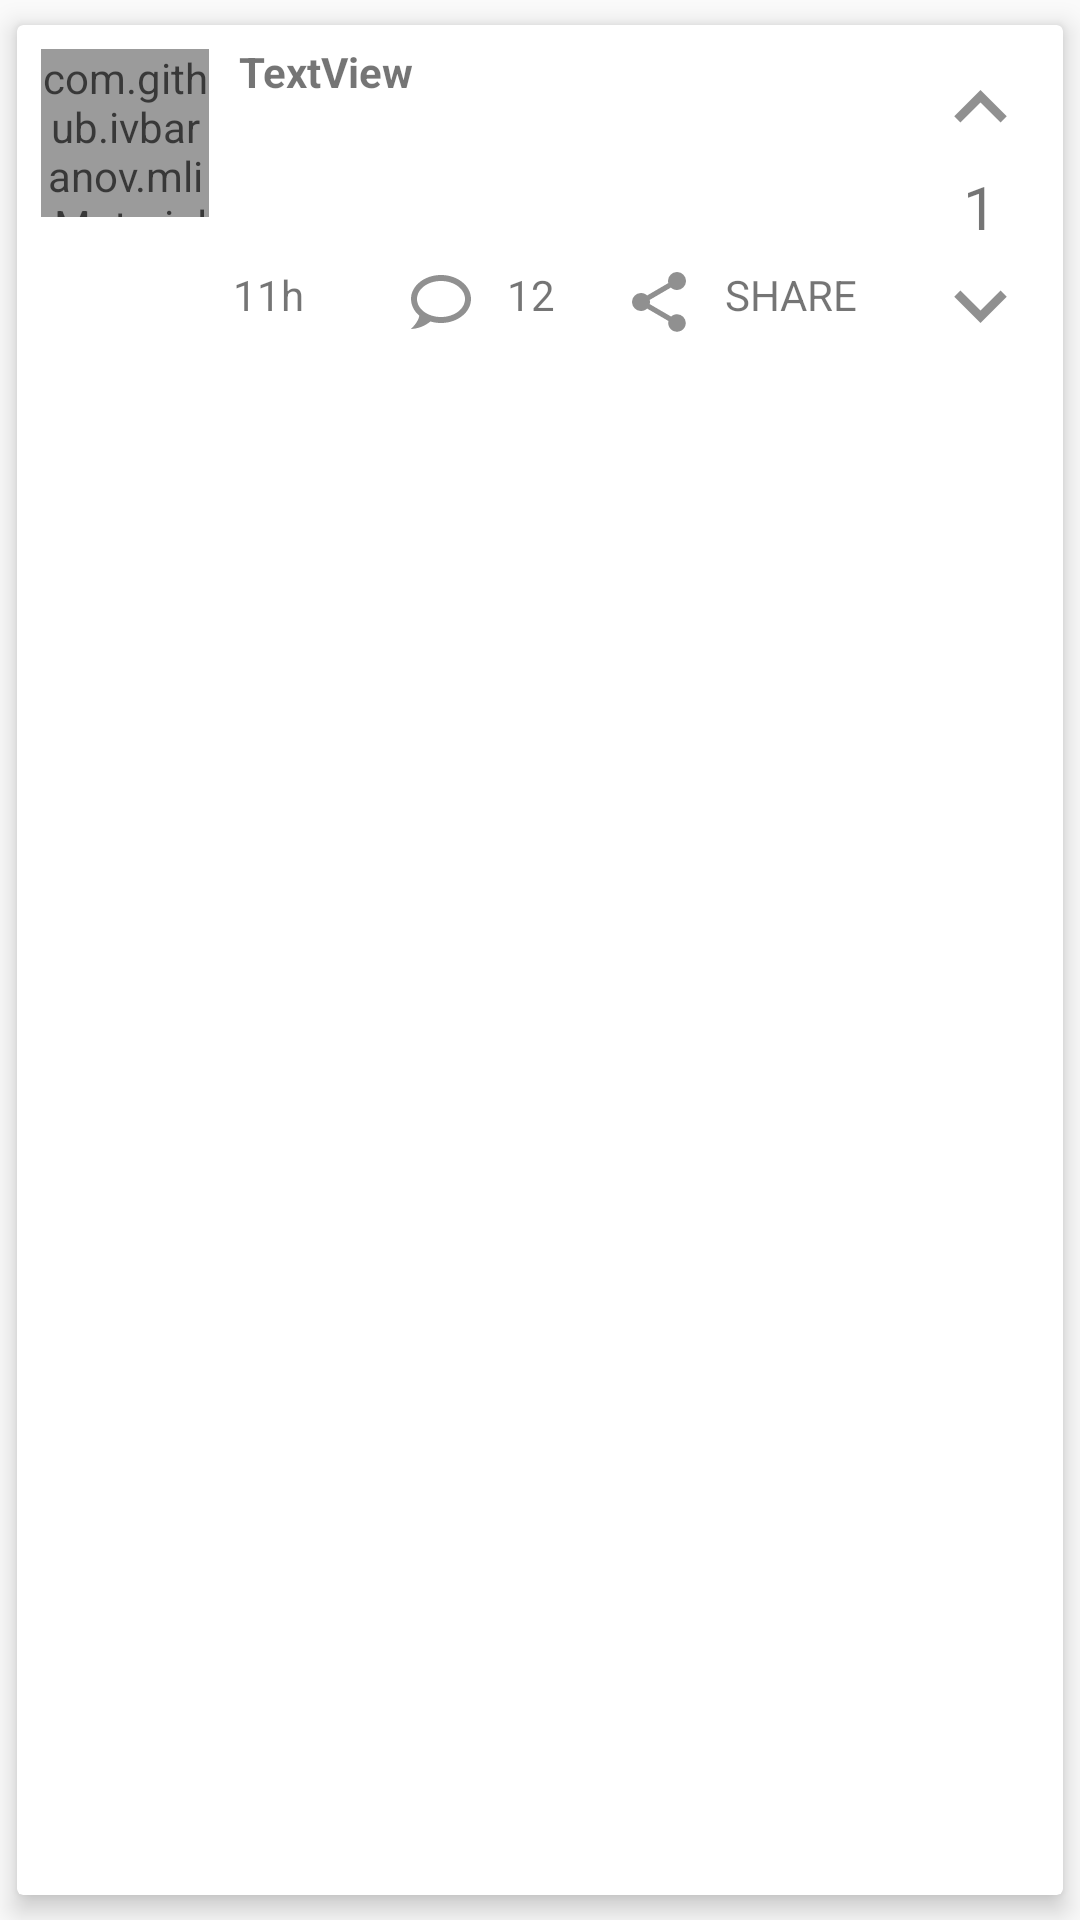

Locate icon controls on the screen. Image size 1080 x 1920, boxes as [x1=x1, y1=y1, x2=x2, y2=y2].
arrow down: [x1=954, y1=290, x2=1007, y2=323]
arrow up: [x1=954, y1=90, x2=1007, y2=123]
chat: [x1=411, y1=275, x2=471, y2=329]
